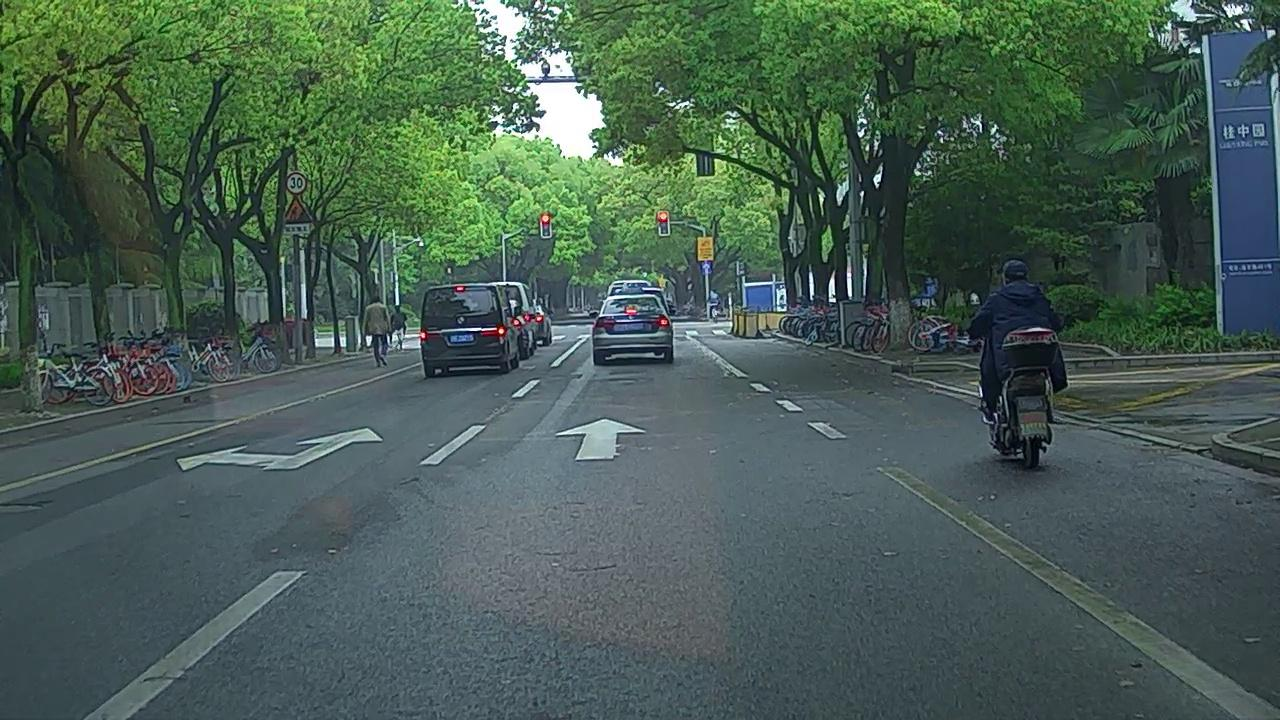traffic_light: (658, 210, 670, 236), (542, 214, 550, 238)
